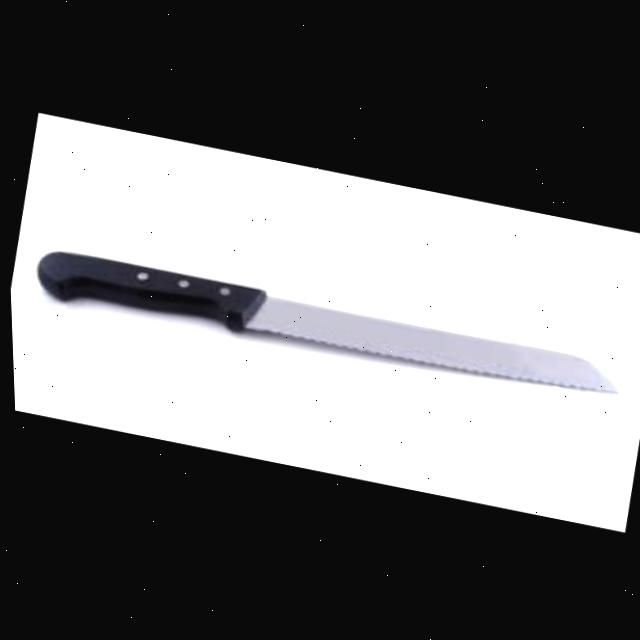knife: (32, 242, 624, 409)
